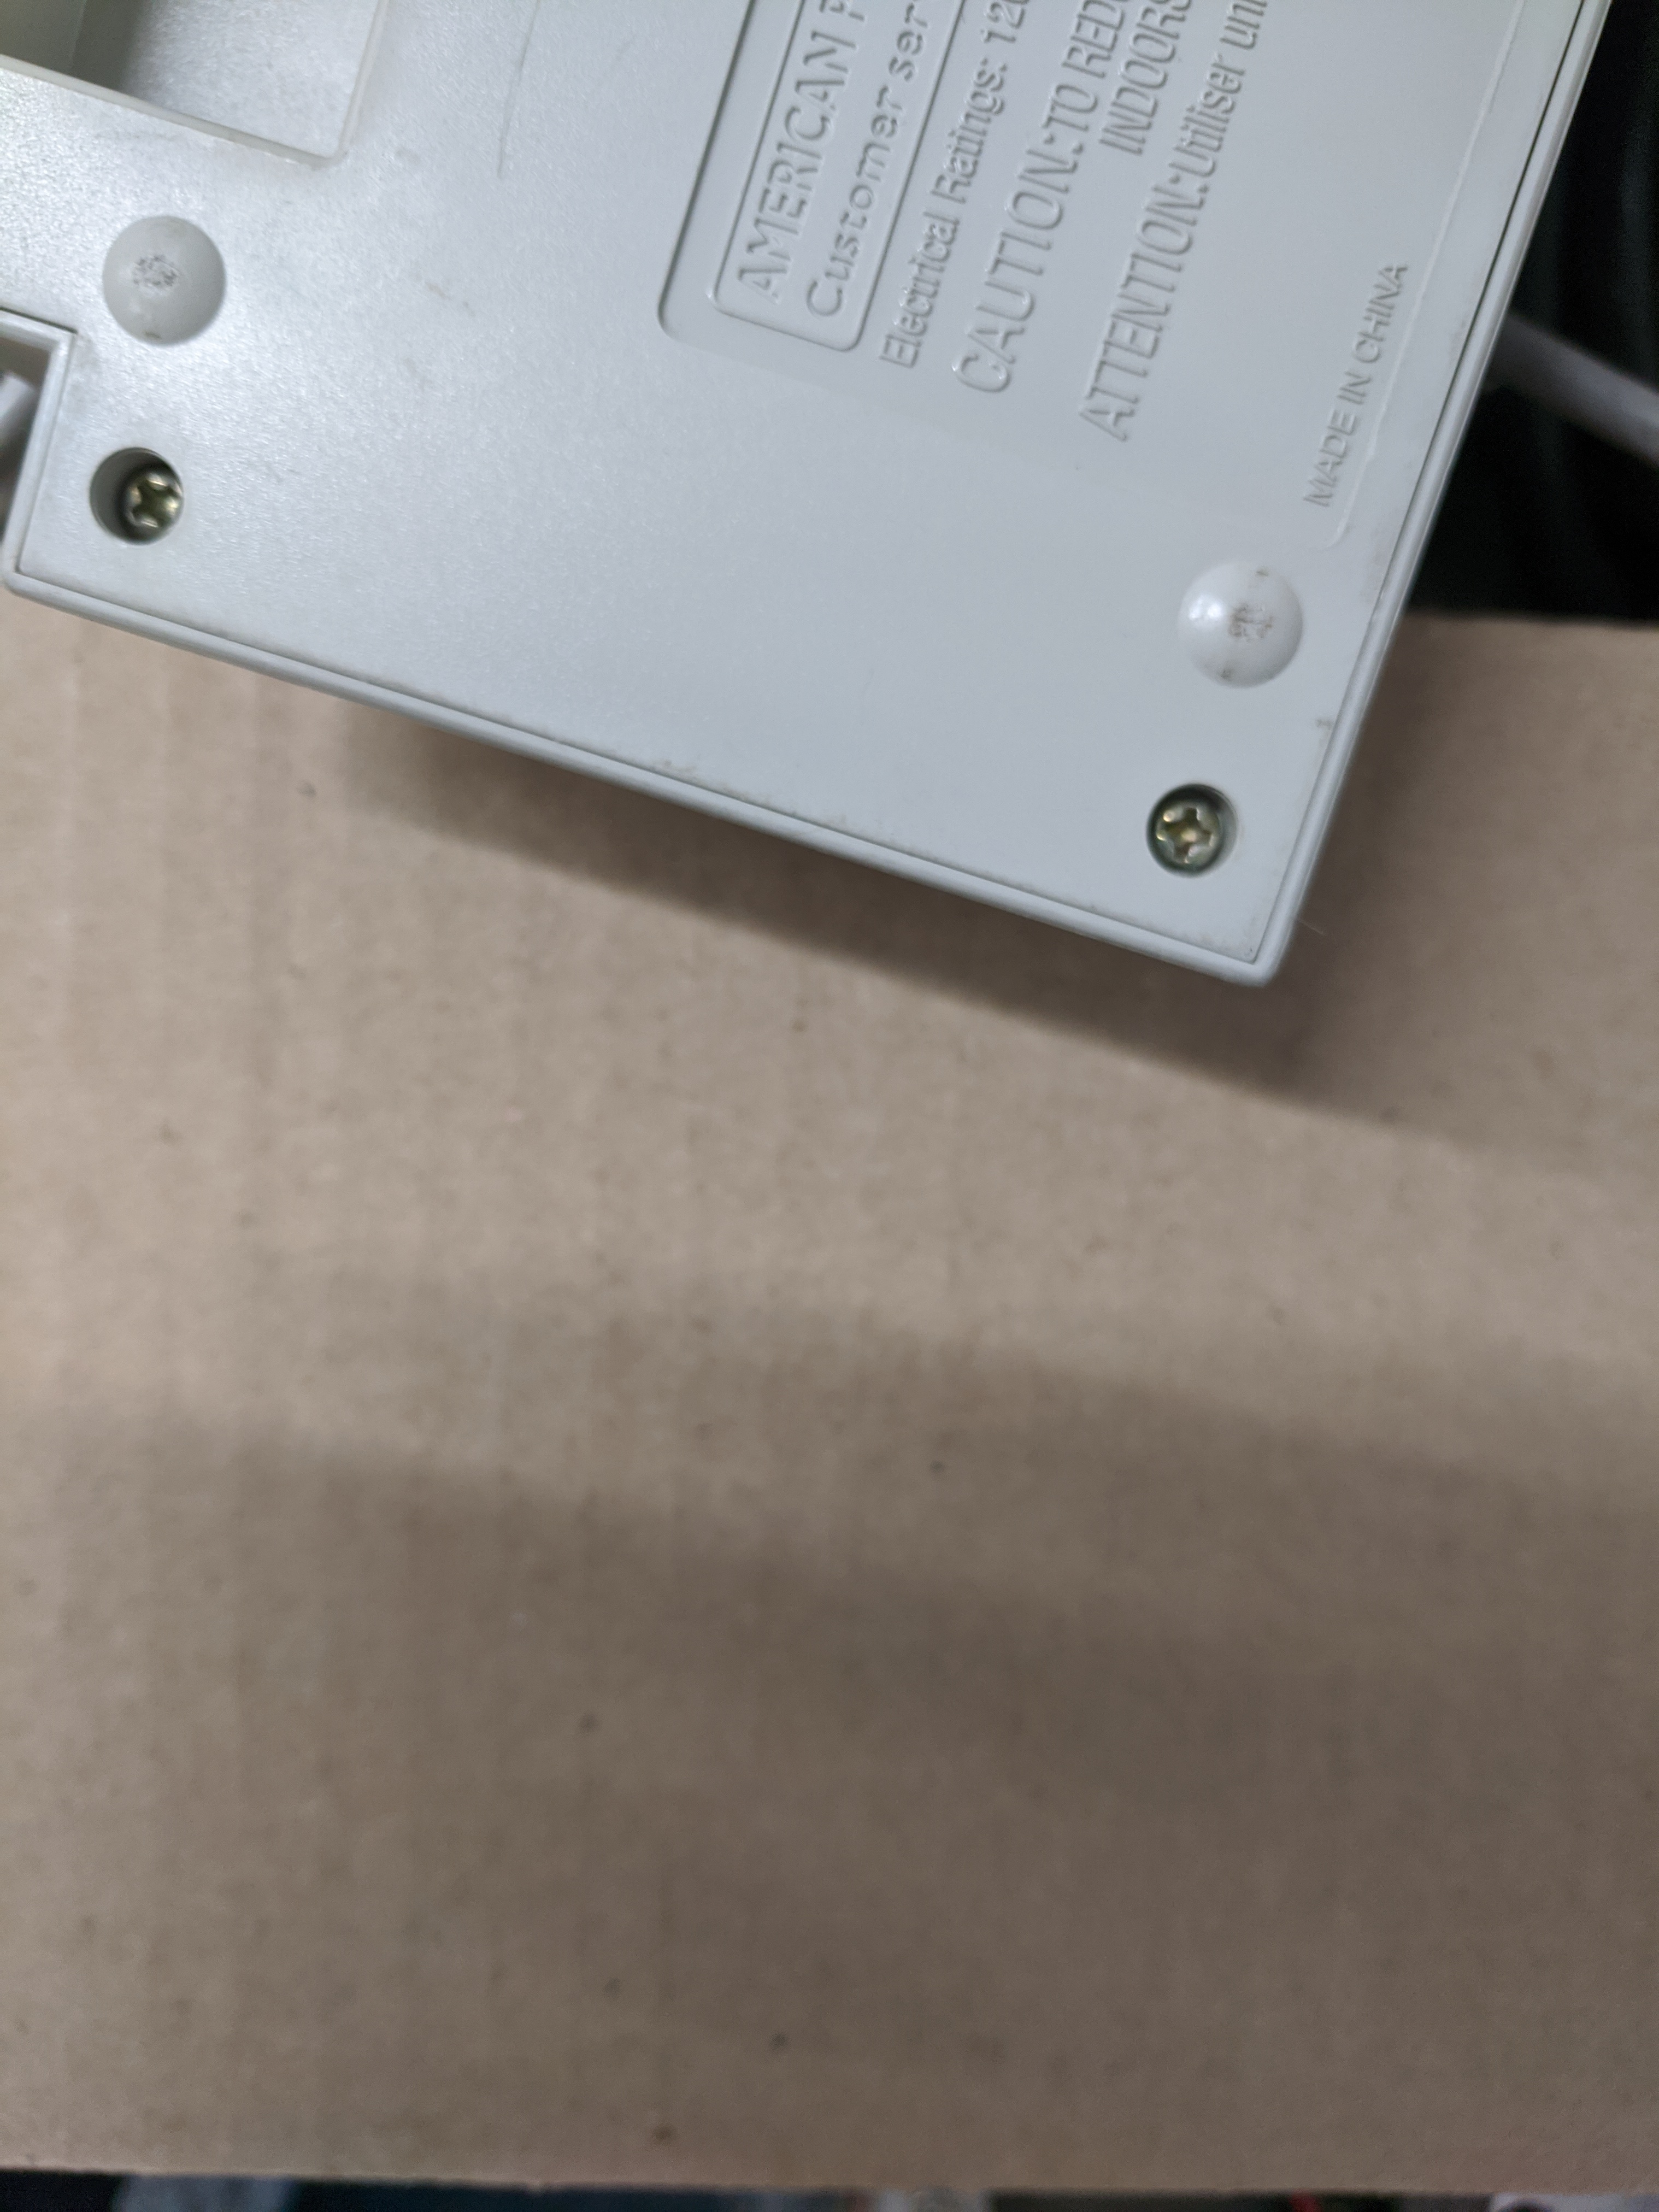cross_recessed_screw: (1119, 763, 1255, 885), (80, 441, 199, 535)
